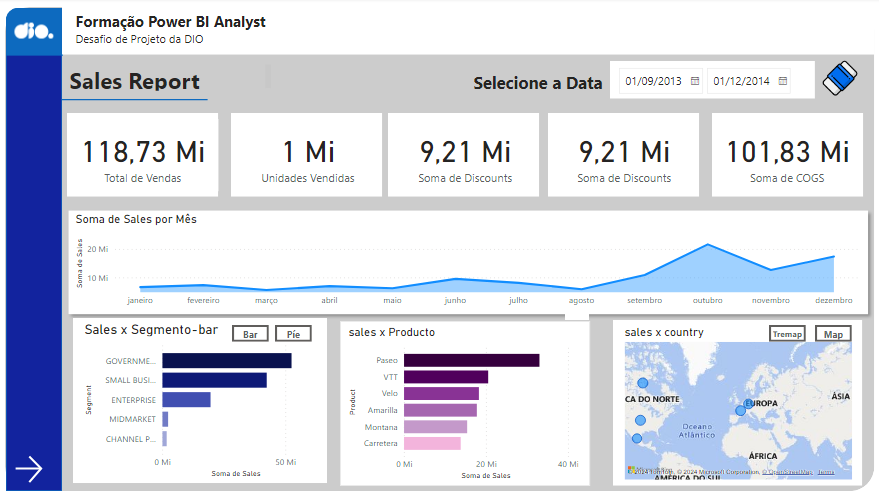

The dashboard page shown, as its layout file describes it:
{"tool":"powerbi","page":{"name":"Página 1","canvas":[1280,720],"ordinal":0},"visuals":[{"type":"shape","box":[12.1,13.3,1251.9,697.1],"z":0},{"type":"slicer","fields":{"Values":["financials.Date"]},"box":[882.8,90.4,295.5,54.3],"z":0,"group":"g2"},{"type":"shape","box":[94.1,138.7,209.8,13.3],"z":0,"group":"g5"},{"type":"shape","box":[101.7,165.3,218,120.7],"z":0,"group":"g1"},{"type":"map","title":"sales x country","fields":{"Category":["financials.Country"],"Size":["Sum(financials. Sales)"]},"box":[898.5,470.9,337.7,227.9],"z":0,"group":"g3"},{"type":"shape","box":[13,14.4,80.6,695.5],"z":1000},{"type":"textbox","box":[100.1,90.5,300.3,48.2],"z":1000,"group":"g5"},{"type":"textbox","box":[681.4,98.9,206.2,48.2],"z":1000,"group":"g2"},{"type":"shape","box":[337.5,165.3,218,120.7],"z":1000,"group":"g1"},{"type":"clusteredBarChart","title":"Sales x Segmento-bar","fields":{"Y":["Sum(financials. Sales)"],"Category":["financials.Segment"]},"box":[119.7,465,349.7,230.4],"z":1000,"group":"g4"},{"type":"actionButton","title":"Botão-bar","box":[337.7,470.3,53.1,24.1],"z":1250,"group":"g4"},{"type":"actionButton","title":"Botão-tremap","box":[1112,470.4,53.1,24.1],"z":1250,"group":"g3"},{"type":"actionButton","title":"Botão-pie","box":[400.4,470.3,53.1,24.1],"z":1500,"group":"g4"},{"type":"actionButton","title":"Botão-map","box":[1178.3,470.4,53.1,24.1],"z":1500,"group":"g3"},{"type":"shape","box":[12.3,13.7,82.3,68.6],"z":2000},{"type":"actionButton","box":[1183.1,90.4,63.9,48.2],"z":2000,"group":"g2"},{"type":"shape","box":[563.8,165.3,218,120.7],"z":2000,"group":"g1"},{"type":"image","title":"diome","box":[20.6,15.1,65.8,65.8],"z":3000},{"type":"image","title":"seguebor","box":[1183,82,63.9,65.3],"z":3000,"group":"g2"},{"type":"shape","box":[794.1,165.3,218,120.7],"z":3000,"group":"g1"},{"type":"shape","box":[94.1,13.3,1169.8,68.7],"z":4000},{"type":"shape","box":[1029.9,165.3,218,120.7],"z":4000,"group":"g1"},{"type":"textbox","box":[108.3,15.1,471.6,65.8],"z":5000},{"type":"card","fields":{"Values":["Sum(financials.Discounts)"]},"box":[800.8,173.6,205,103.7],"z":5000,"group":"g1"},{"type":"group","id":"g1","title":"cartoes","box":[101.3,165.3,1146.6,120.7],"z":6000},{"type":"card","fields":{"Values":["Sum(financials.COGS)"]},"box":[1036,173.6,205,103.7],"z":6000,"group":"g1"},{"type":"card","fields":{"Values":["Sum(financials.Discounts)"]},"box":[572.9,173.6,205,103.7],"z":7000,"group":"g1"},{"type":"shape","box":[94.1,296.7,1169.8,167.6],"z":7000},{"type":"card","fields":{"Values":["Sum(financials.Units Sold)"]},"box":[343.7,173.6,209.8,103.7],"z":8000,"group":"g1"},{"type":"shape","box":[109.1,461.4,365.9,238.1],"z":8000},{"type":"card","fields":{"Values":["Sum(financials. Sales)"]},"box":[101.3,173.6,218.3,103.7],"z":9000,"group":"g1"},{"type":"shape","box":[493.3,465.5,360.6,237.6],"z":9000},{"type":"shape","box":[887.6,464.3,359.4,238.8],"z":10000},{"type":"areaChart","fields":{"Category":["financials.Date.Variation.Hierarquia de datas.Mês"],"Y":["Sum(financials. Sales)"]},"box":[108.5,308.7,1138.5,144.7],"z":11000},{"type":"clusteredBarChart","title":"sales x Producto","fields":{"Y":["Sum(financials. Sales)"],"Category":["financials.Product"]},"box":[501.7,470.4,341.3,227.9],"z":12000},{"type":"group","id":"g2","title":"filtro por data","box":[681.4,82,565.6,65.3],"z":13000},{"type":"group","id":"g3","title":"SalesxPais","box":[898.5,470.4,338,228.4],"z":14000},{"type":"group","id":"g4","title":"Sales x Segmento","box":[114.6,465,354.8,230.4],"z":15000},{"type":"group","id":"g5","title":"title report","box":[94.1,90.5,306.3,61.5],"z":16000},{"type":"actionButton","box":[20.9,653.3,65.3,50],"z":17000}]}

Visuals, with their boxes on the page's 1280x720 design canvas (x1, y1, x2, y2). These are canvas units, not pixel positions in the 879x496 screenshot, which may show the page scaled, cropped or inside an application window:
shape: crop(12, 13, 1264, 710)
slicer - financials.Date: crop(883, 90, 1178, 145)
shape: crop(94, 139, 304, 152)
shape: crop(102, 165, 320, 286)
"sales x country" map: crop(898, 471, 1236, 699)
shape: crop(13, 14, 94, 710)
textbox: crop(100, 90, 400, 139)
textbox: crop(681, 99, 888, 147)
shape: crop(338, 165, 556, 286)
"Sales x Segmento-bar" clusteredBarChart: crop(120, 465, 469, 695)
"Botão-bar" actionButton: crop(338, 470, 391, 494)
"Botão-tremap" actionButton: crop(1112, 470, 1165, 494)
"Botão-pie" actionButton: crop(400, 470, 454, 494)
"Botão-map" actionButton: crop(1178, 470, 1231, 494)
shape: crop(12, 14, 95, 82)
actionButton: crop(1183, 90, 1247, 139)
shape: crop(564, 165, 782, 286)
"diome" image: crop(21, 15, 86, 81)
"seguebor" image: crop(1183, 82, 1247, 147)
shape: crop(794, 165, 1012, 286)
shape: crop(94, 13, 1264, 82)
shape: crop(1030, 165, 1248, 286)
textbox: crop(108, 15, 580, 81)
card - Sum(financials.Discounts): crop(801, 174, 1006, 277)
"cartoes" group: crop(101, 165, 1248, 286)
card - Sum(financials.COGS): crop(1036, 174, 1241, 277)
card - Sum(financials.Discounts): crop(573, 174, 778, 277)
shape: crop(94, 297, 1264, 464)
card - Sum(financials.Units Sold): crop(344, 174, 554, 277)
shape: crop(109, 461, 475, 700)
card - Sum(financials. Sales): crop(101, 174, 320, 277)
shape: crop(493, 466, 854, 703)
shape: crop(888, 464, 1247, 703)
areaChart - financials.Date.Variation.Hierarquia de datas.Mês x Sum(financials. Sales): crop(108, 309, 1247, 453)
"sales x Producto" clusteredBarChart: crop(502, 470, 843, 698)
"filtro por data" group: crop(681, 82, 1247, 147)
"SalesxPais" group: crop(898, 470, 1236, 699)
"Sales x Segmento" group: crop(115, 465, 469, 695)
"title report" group: crop(94, 90, 400, 152)
actionButton: crop(21, 653, 86, 703)
